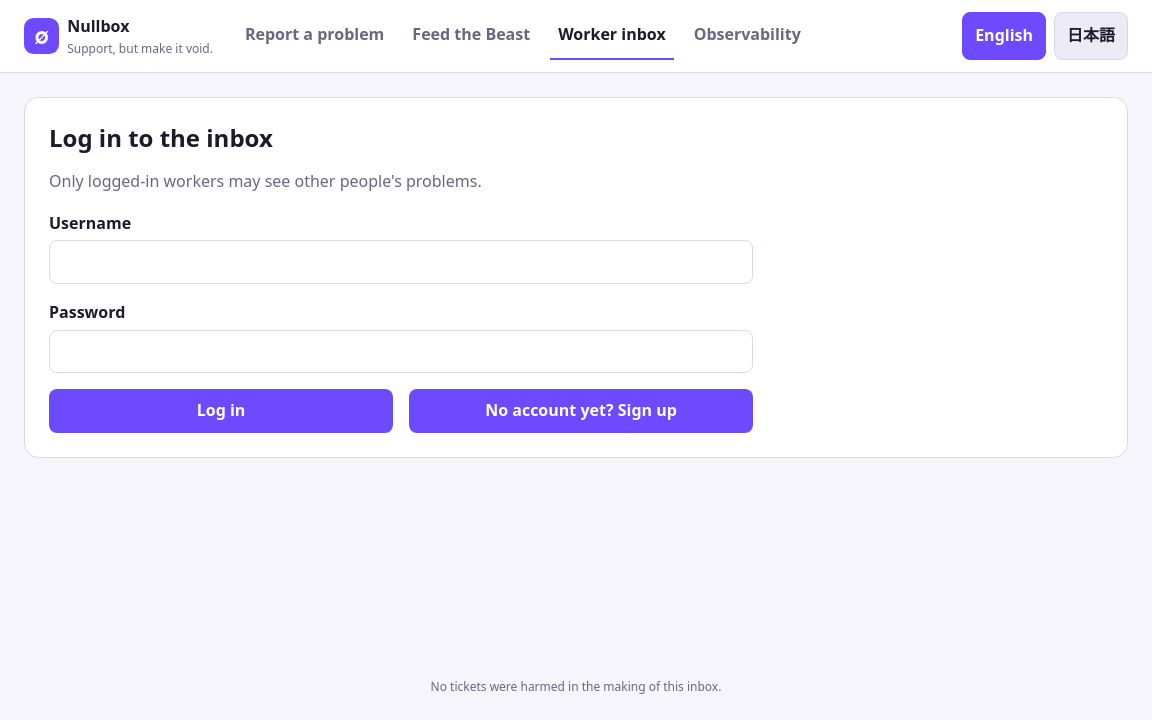
Test: RequireWorker › sign up shows the password_too_weak message
Click the button "No account yet? Sign up" at (581, 411), box [409,389,753,433]
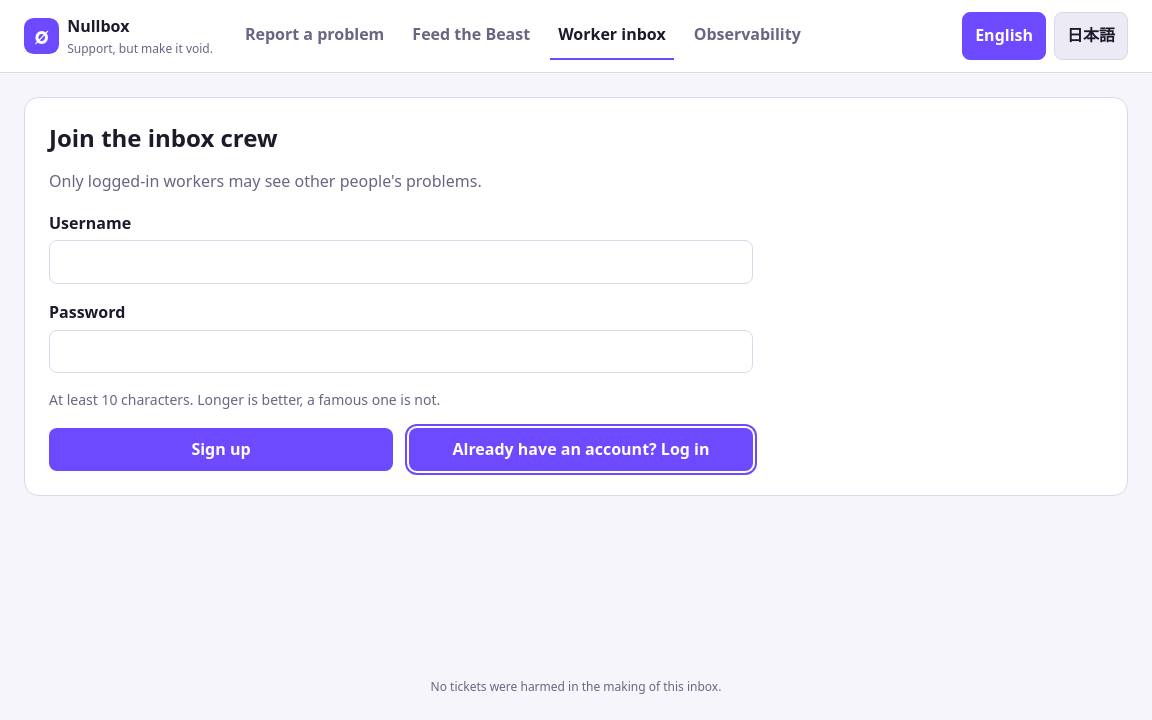
Type "alice" into the field labelled "Username" at (401, 262), box [49,240,753,284]
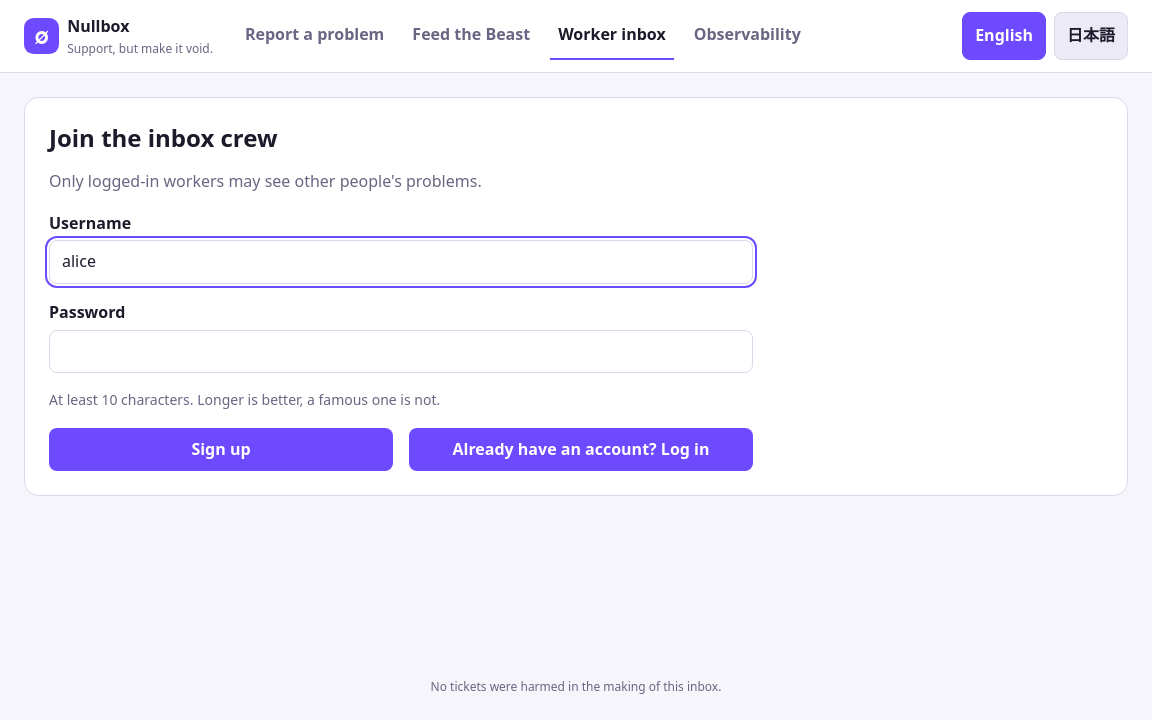
Type "correct horse battery" into the password field labelled "Password" at (401, 351), box [49,330,753,373]
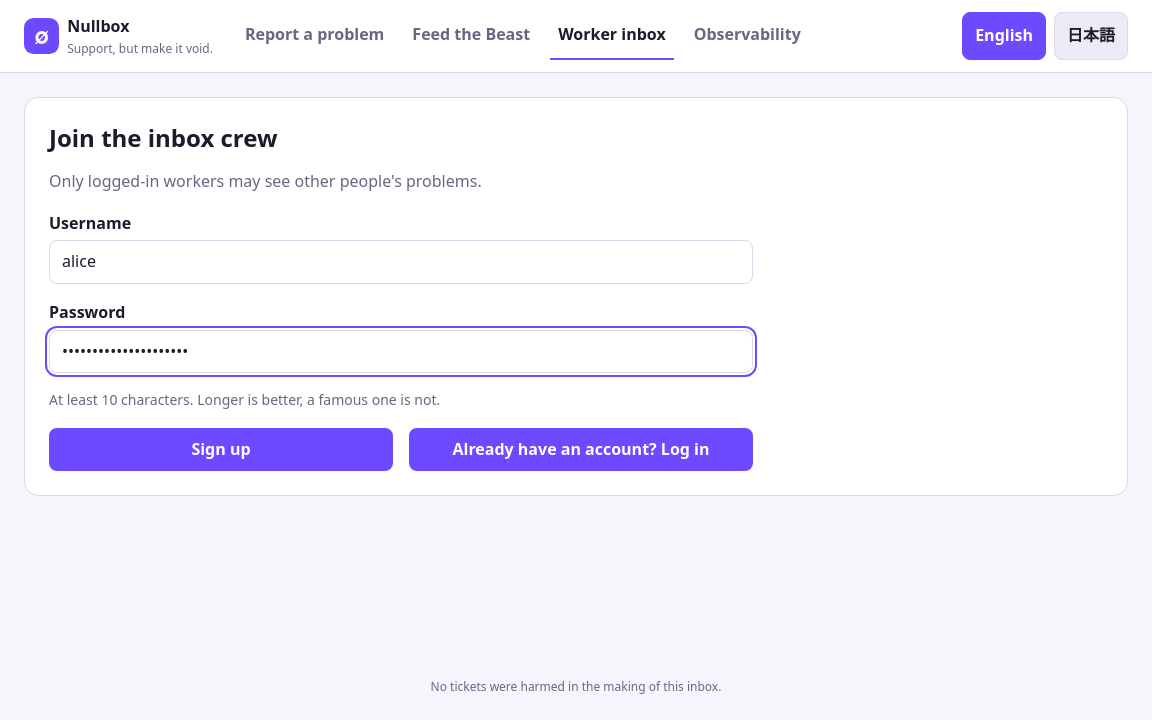
Click the button "Sign up" at (221, 449), box [49,428,393,471]
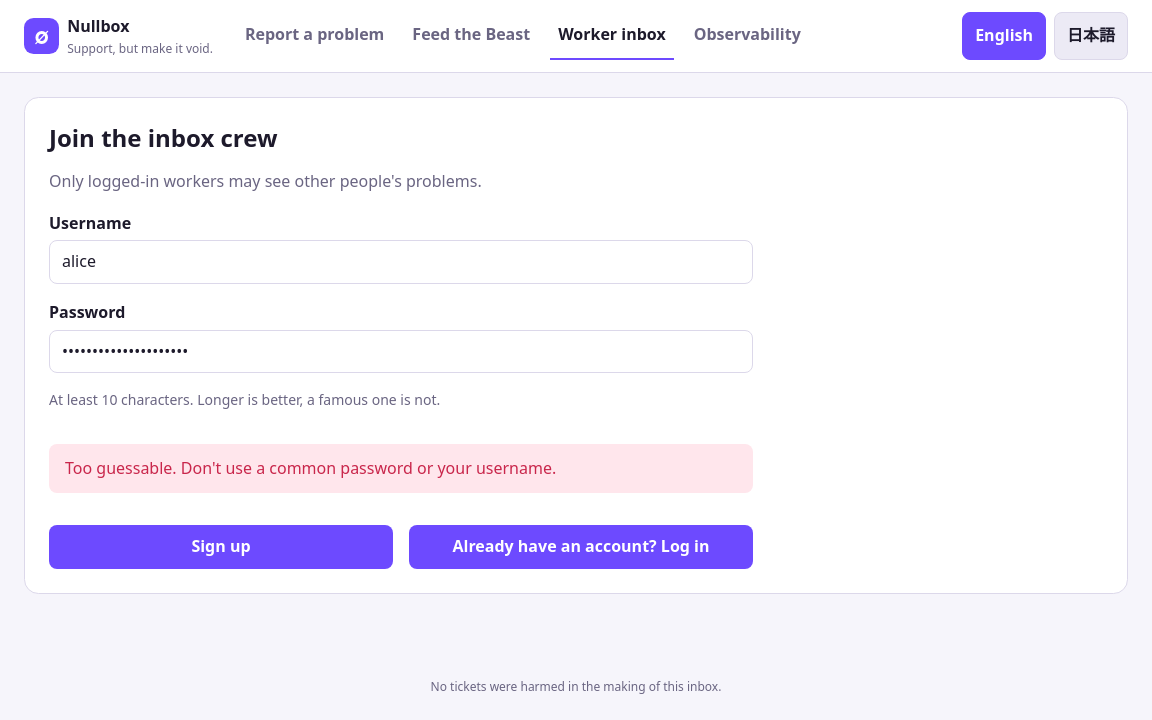
Expected: the message reads "Too guessable. Don't use a common password or your username.", [65,456,556,478]
